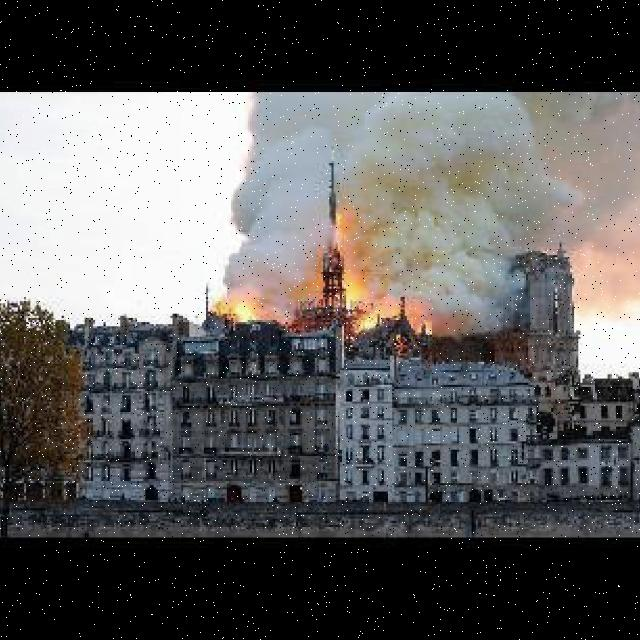fire: (322, 196, 364, 337), (366, 299, 440, 346), (222, 296, 264, 335)
smoke: (222, 96, 640, 317)
